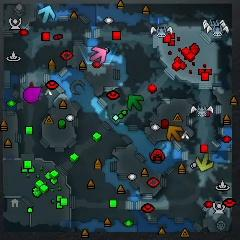p3: (23, 87, 42, 104)
x1: (90, 47, 107, 64)
x2: (196, 153, 214, 172)
x3: (38, 5, 56, 23)
x4: (127, 94, 143, 111)
x5: (166, 125, 183, 141)
